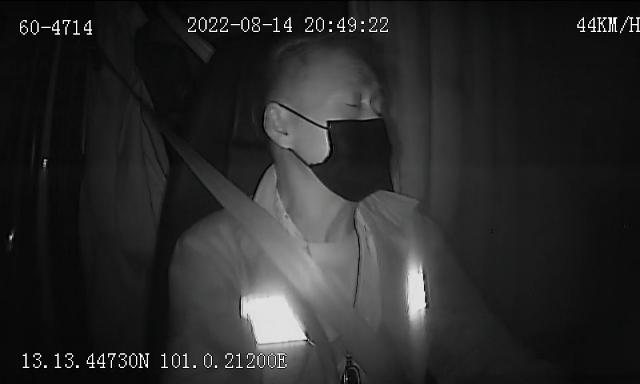Seatbelt: (158, 118, 408, 384)
